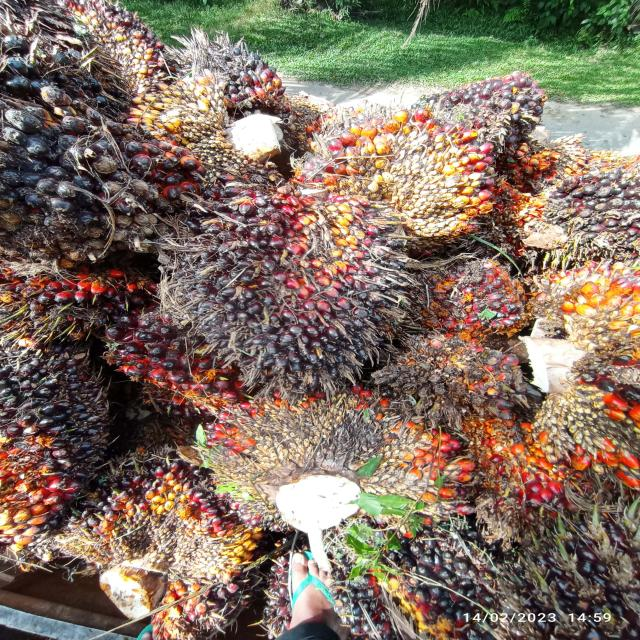fraksi 00: (160, 179, 432, 407), (0, 30, 186, 318), (406, 54, 581, 152)
fraksi 3: (408, 243, 532, 338)
